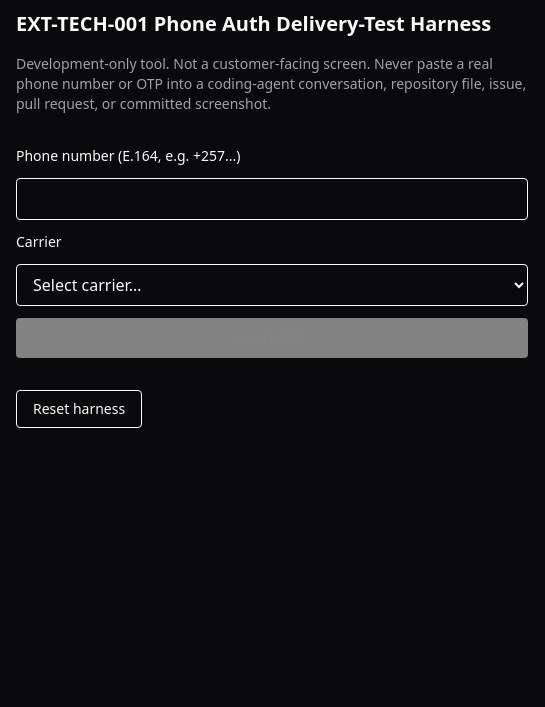
it: PhoneAuthHarnessPage › OTP confirmation › accepts an OTP typed at runtime and completes real Firebase confirmation
In the field labelled "Phone number (E.164, e.g. +257...)": [272, 199] box [16,178,528,220], type "+25779123456"
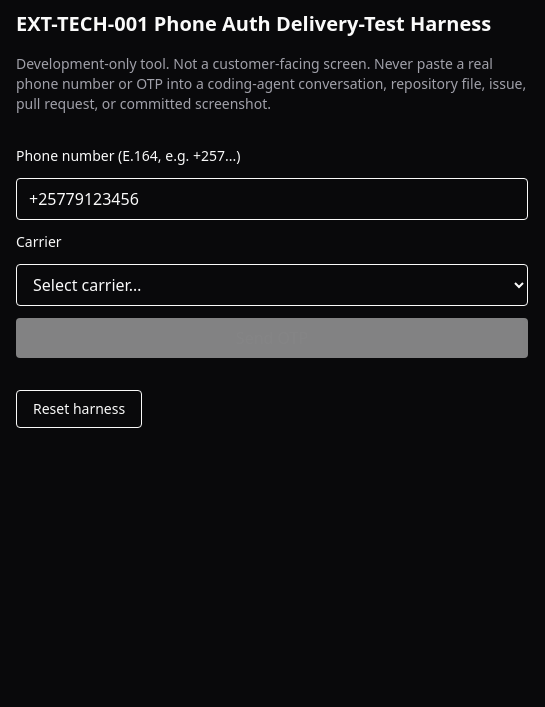
Select "Lumitel" in the dropdown labelled "Carrier": [272, 285] box [16,264,528,306]
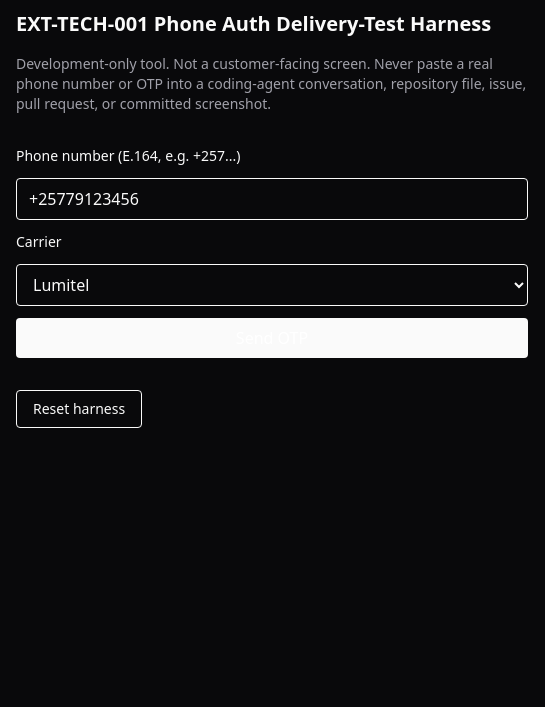
Click the button "Send OTP": [272, 338] box [16,318,528,358]
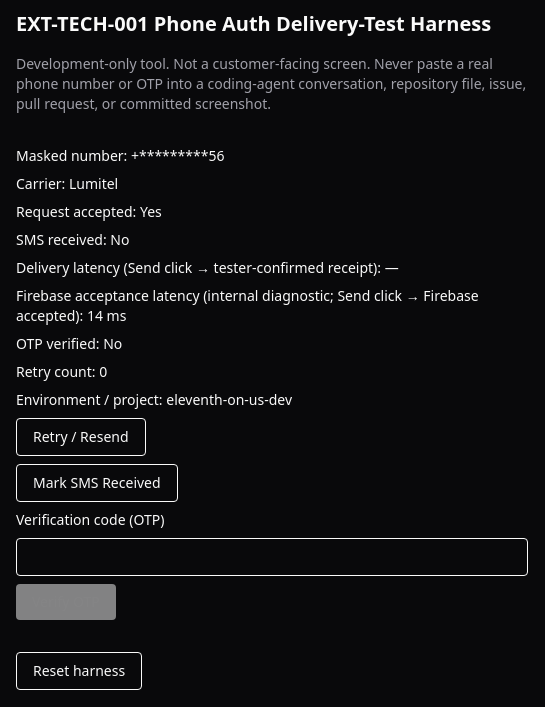
expect the button "Mark SMS Received" is shown: met, box [16,464,178,502]
In the password field labelled "Verification code (OTP)": [272, 557] box [16,538,528,576], type "654321"
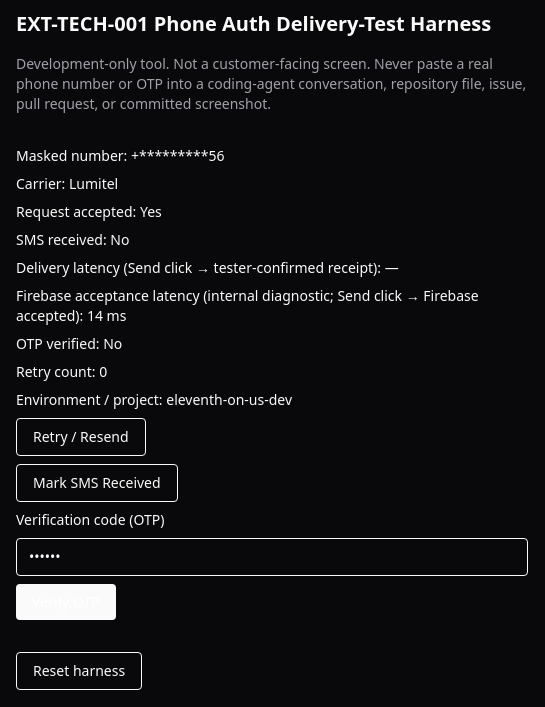
Click the button "Verify OTP": [66, 602] box [16,584,116,620]
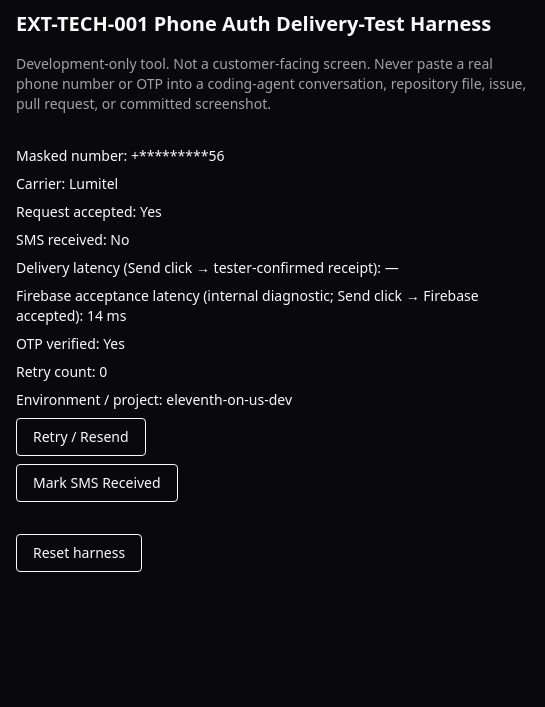
expect the text "OTP verified: Yes" is shown: met, box [16,334,125,353]
